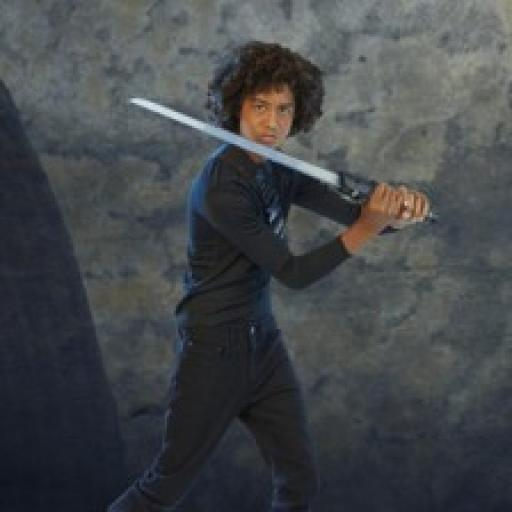human: (103, 39, 430, 512)
lightsaber: (126, 94, 441, 225)
